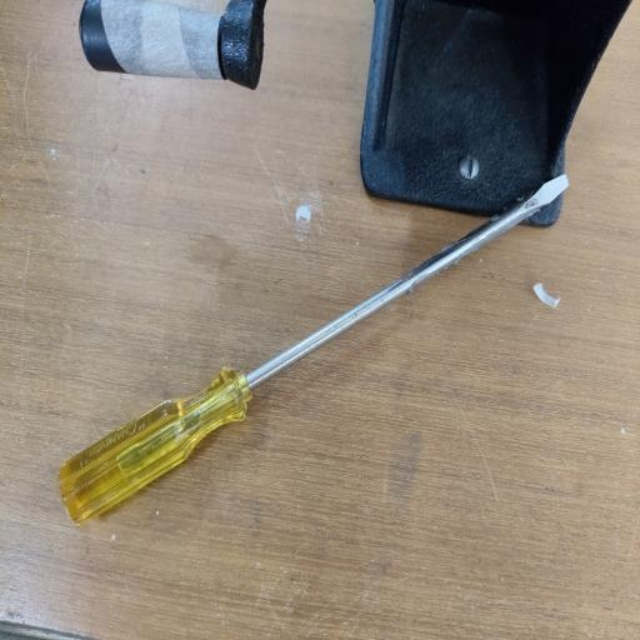screwdriver: (57, 173, 571, 529)
